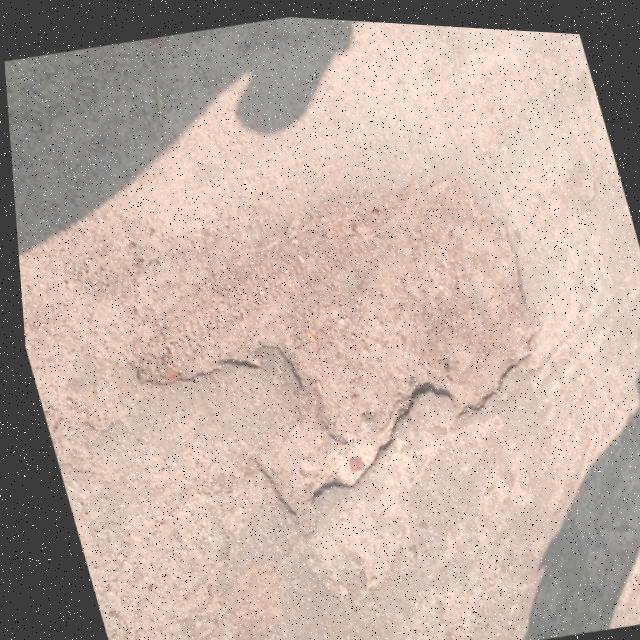pothole: (67, 137, 582, 547)
